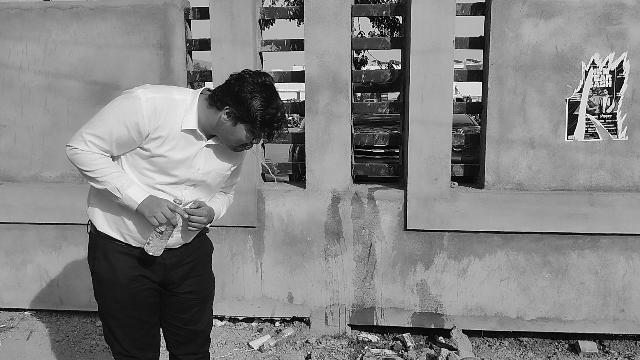spit: (194, 53, 292, 207)
